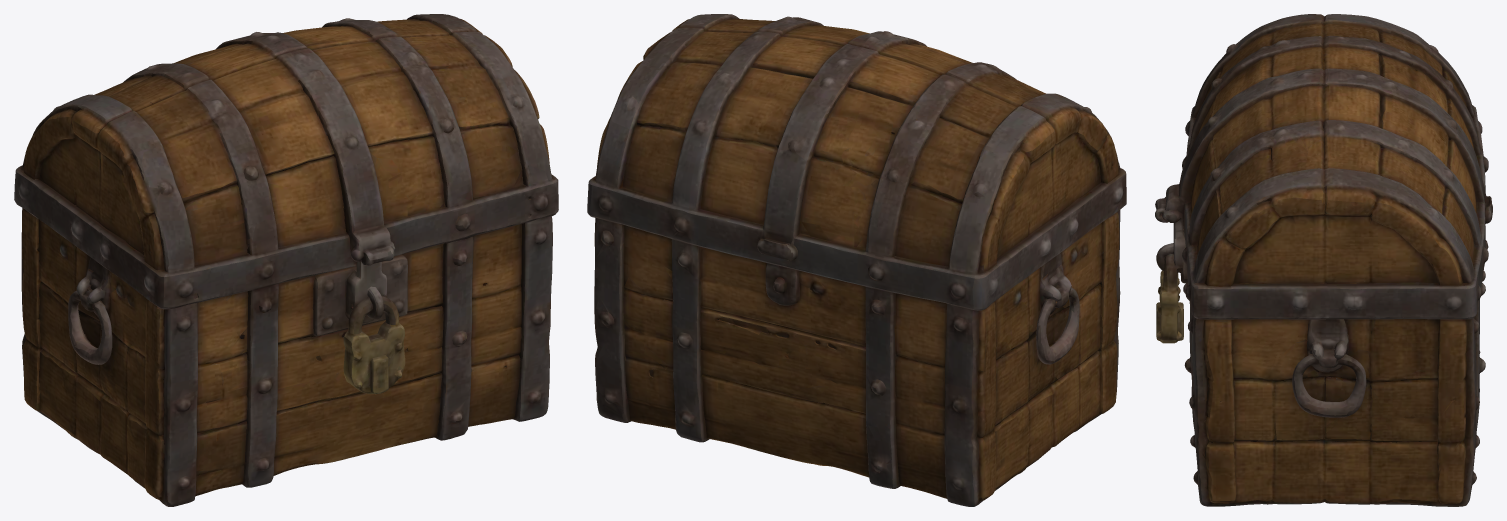
Rendered from parts.glb.
3 views of the same model, side by side, from view 1: azimuth 30°, elevation 25°; view 2: azimuth 150°, elevation 25°; view 3: azimuth 270°, elevation 25° (orthographic). The views are drawn at different scales.
Bounding box in the file's own units: 0.6 × 0.5128 × 0.4495.
1 material, 1 textured.
